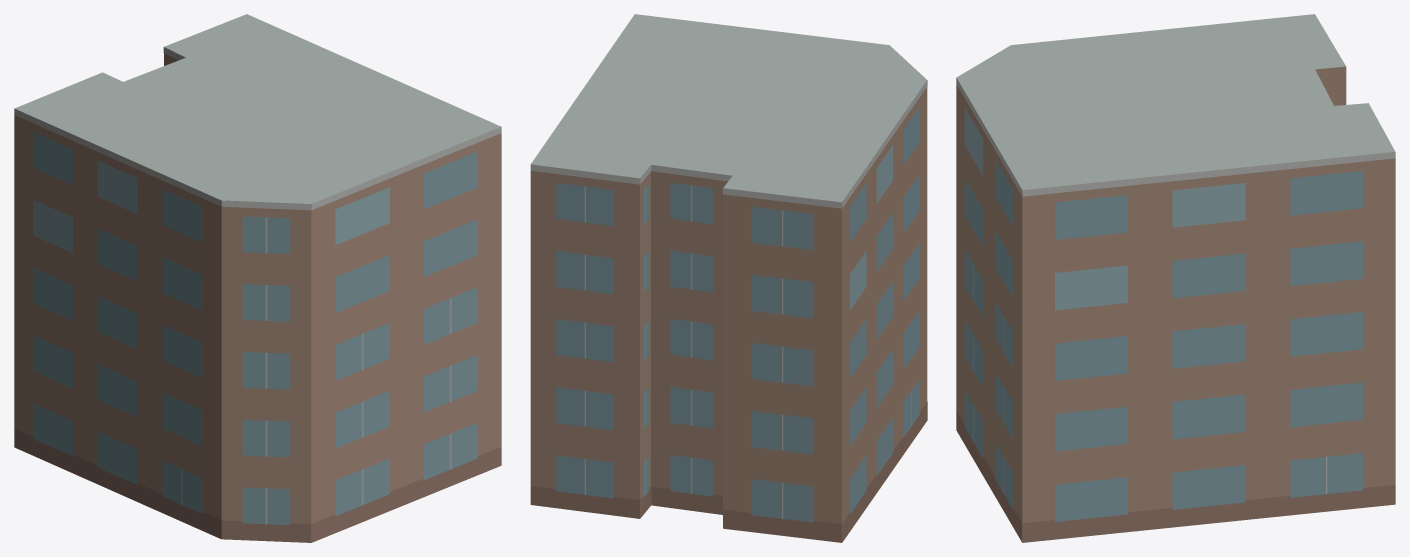
The model's file is survey-upis-32904098.glb.
The picture shows the model from 3 angles, left to right: view 1: azimuth 30°, elevation 25°; view 2: azimuth 150°, elevation 25°; view 3: azimuth 270°, elevation 25°; orthographic projection. The views are drawn at different scales.
Visible parts, largest first — view 1: survey-upis-32904098.tmp; view 2: survey-upis-32904098.tmp; view 3: survey-upis-32904098.tmp.
Part boxes in pixels (x1,y1,x2,y2): survey-upis-32904098.tmp: (14, 14, 501, 542); survey-upis-32904098.tmp: (530, 14, 927, 542); survey-upis-32904098.tmp: (956, 14, 1395, 542).
Size of the model in its own units: 14.09 by 13.15 by 14.85.
